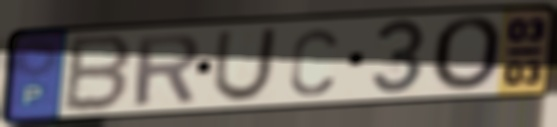3: (369, 14, 428, 100)
B: (59, 32, 136, 115)
C: (287, 26, 341, 99)
O: (429, 14, 507, 94)
R: (132, 31, 203, 109)
U: (208, 25, 281, 104)
